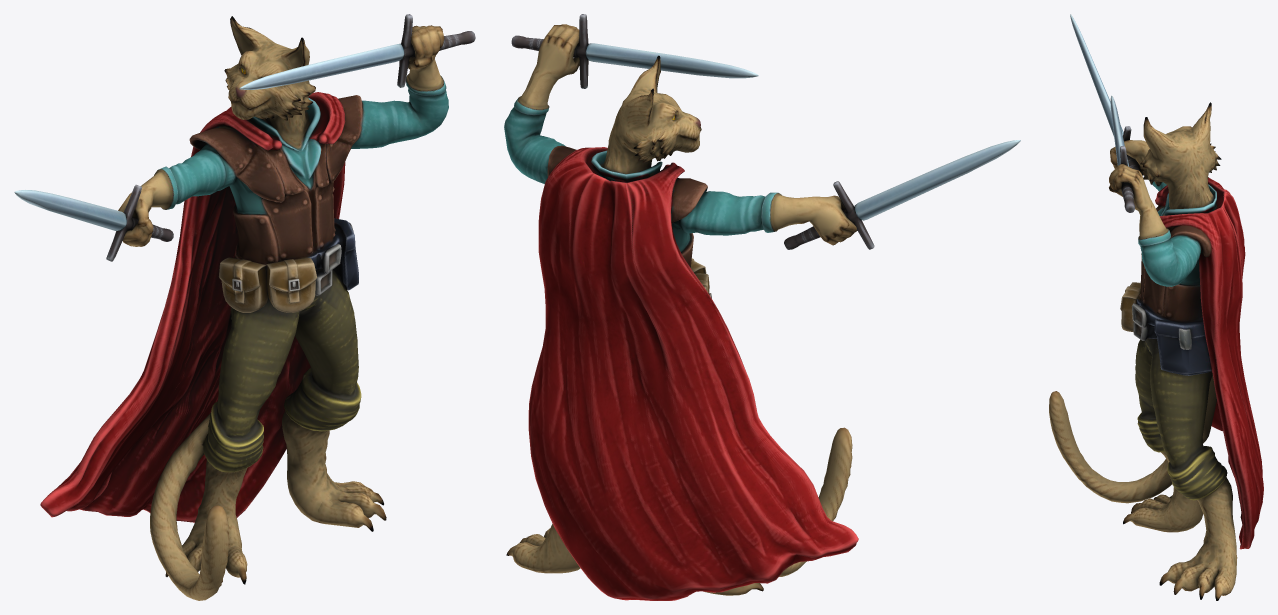
File: MZ4250 - Tabaxi Swashbuckler.glb
3 renders of one model, left to right at view 1: azimuth 30°, elevation 25°; view 2: azimuth 150°, elevation 25°; view 3: azimuth 270°, elevation 25°, orthographic. The views are drawn at different scales.
Visible parts, largest first — view 1: body_low.001, sword_low.001, sword2_low.001, pouch_low.001, pouch2_low.001; view 2: body_low.001, sword2_low.001, sword_low.001; view 3: body_low.001, sword2_low.001, sword_low.001, pouch_low.001.
Part boxes in pixels (bbox=[...]): body_low.001: bbox=[40, 16, 448, 600]; sword_low.001: bbox=[239, 14, 475, 89]; sword2_low.001: bbox=[14, 184, 173, 261]; pouch_low.001: bbox=[266, 258, 317, 312]; pouch2_low.001: bbox=[219, 257, 268, 312]; body_low.001: bbox=[504, 24, 858, 600]; sword2_low.001: bbox=[784, 140, 1020, 249]; sword_low.001: bbox=[511, 14, 758, 88]; body_low.001: bbox=[1049, 102, 1263, 600]; sword2_low.001: bbox=[1070, 14, 1139, 170]; sword_low.001: bbox=[1110, 95, 1135, 212]; pouch_low.001: bbox=[1120, 282, 1140, 332].
Bounding box in the file's own units: 7.69 × 7.91 × 3.44.
Materials: 1 (1 with a texture image).
